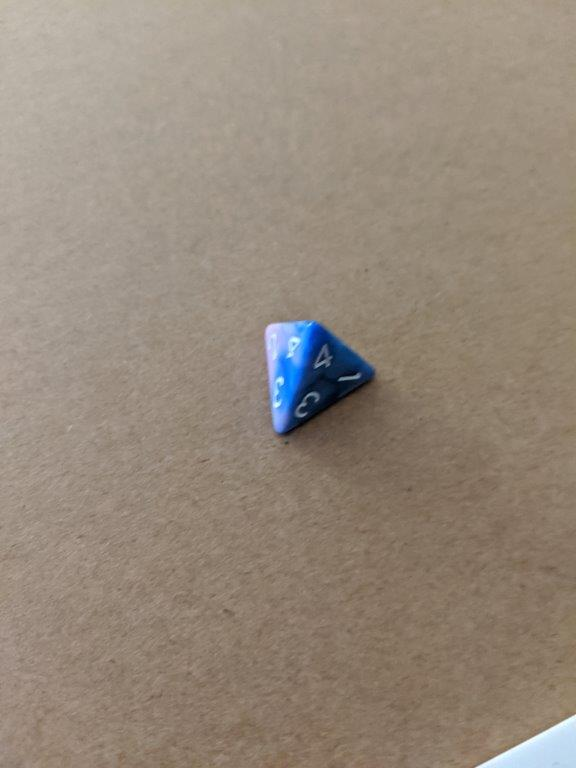d4-4: (260, 314, 376, 439)
